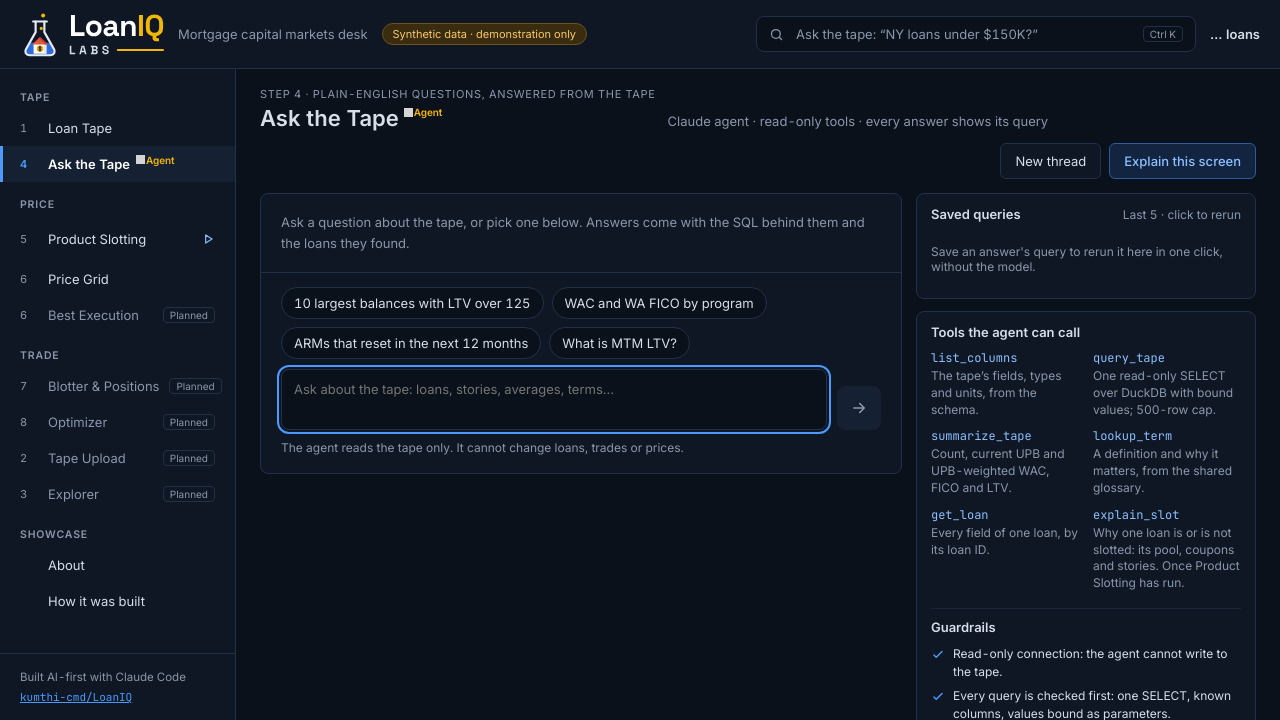
it: Ask the Tape › starts a new thread
The image size is (1280, 720).
Type "Loans over 125 LTV?" into the text box named "Ask the tape" at coordinates (554, 399), box top-left (281, 369), bottom-right (827, 430)
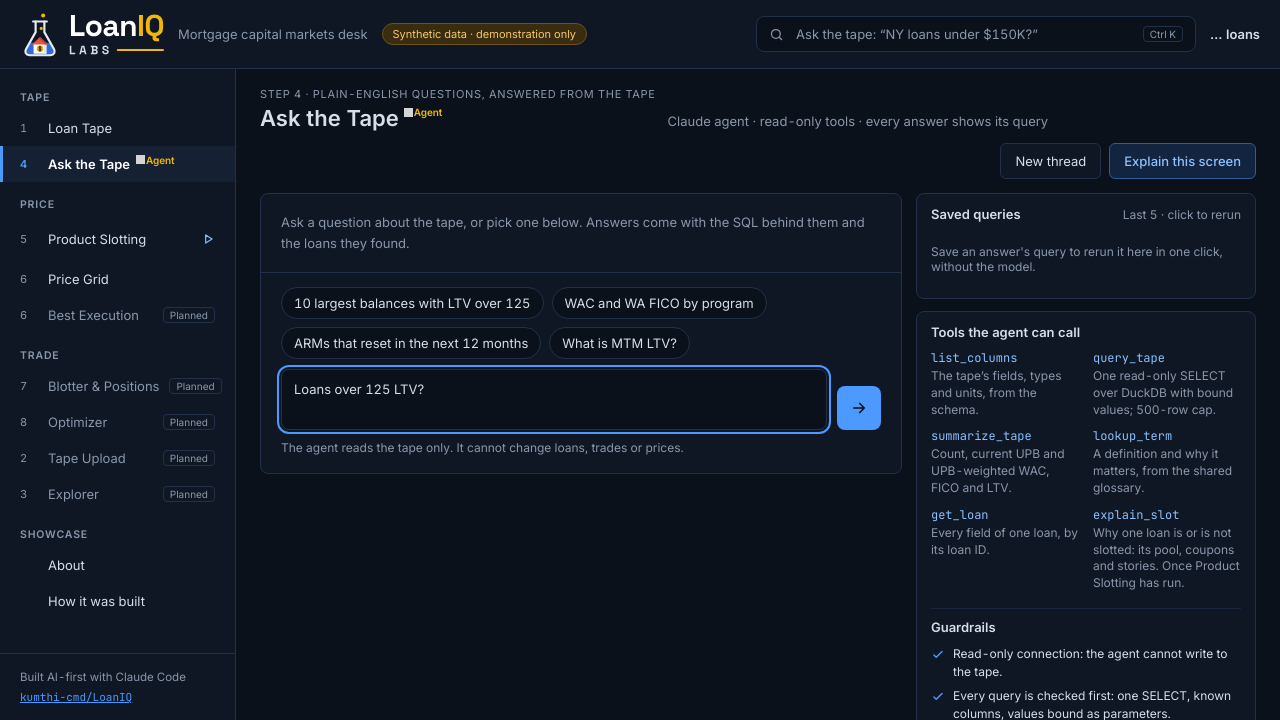
Click the button named "Send question" at coordinates (859, 408), box top-left (837, 386), bottom-right (881, 430)
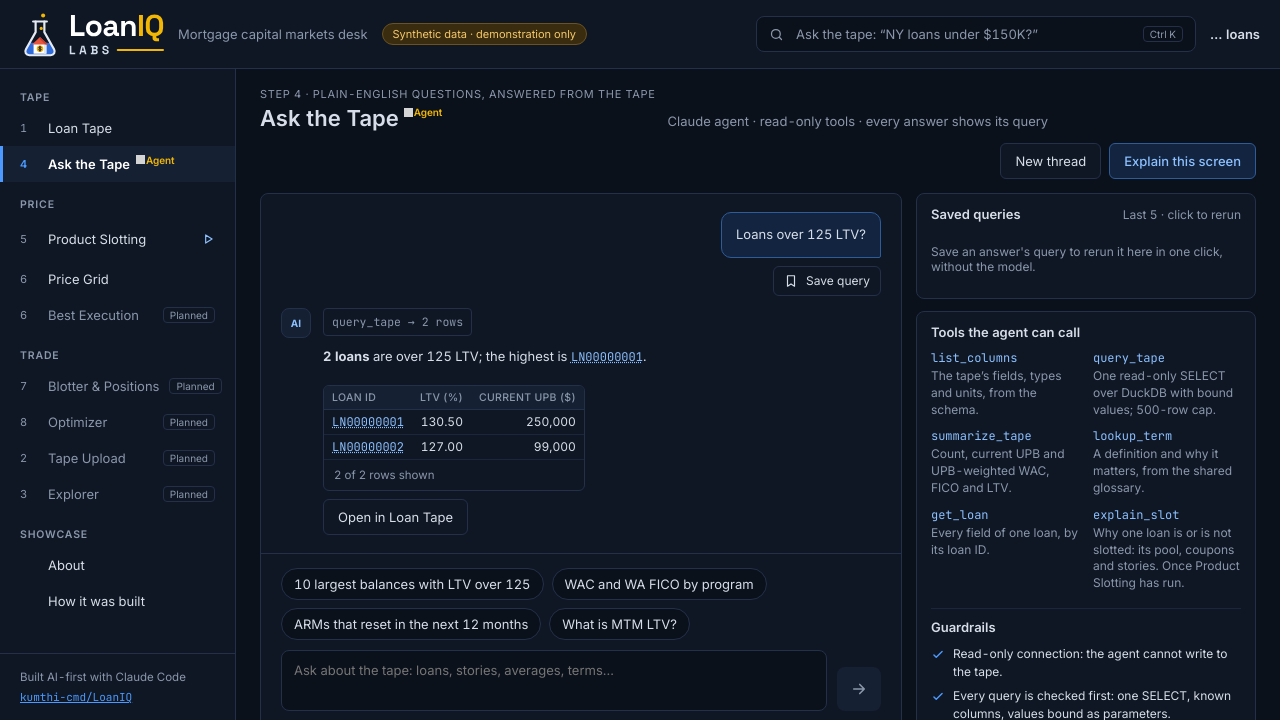
Click the button "New thread" at coordinates (1051, 161), box top-left (1000, 143), bottom-right (1101, 179)
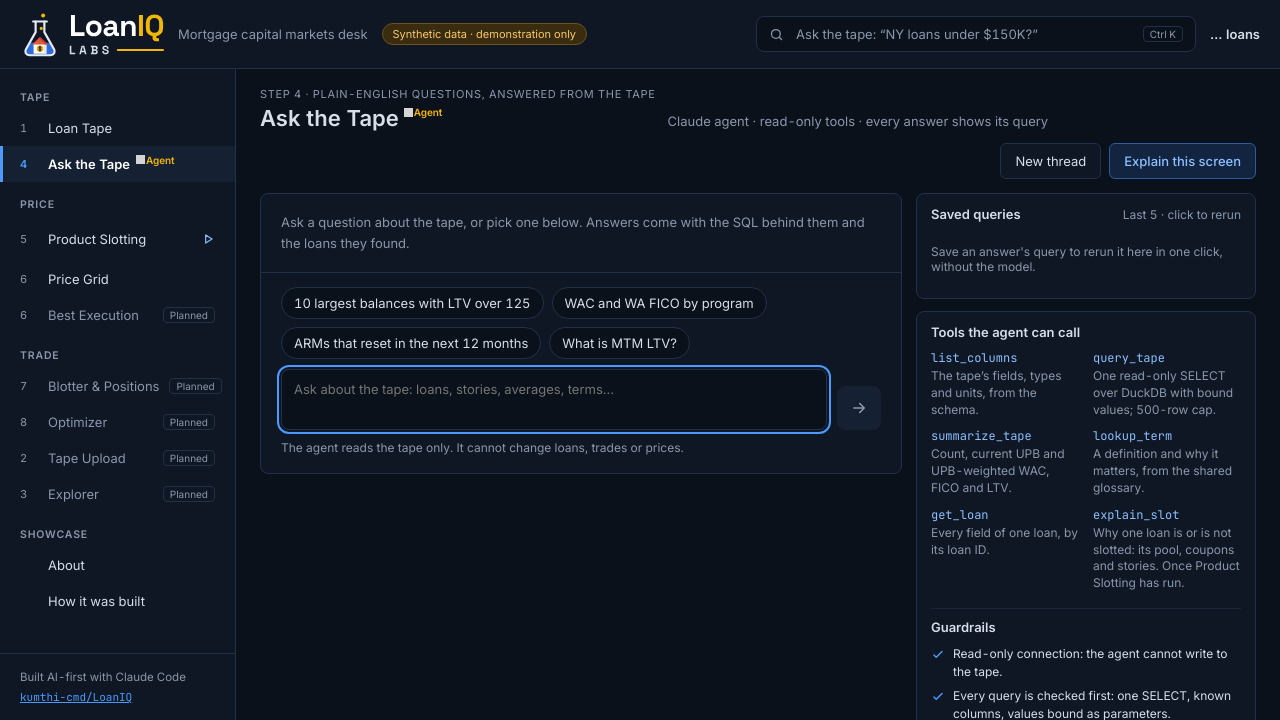
Expected: the table is gone
Expected: the text "Ask a question about the tape, or pick one below" is shown, top-left (281, 214), bottom-right (865, 251)
